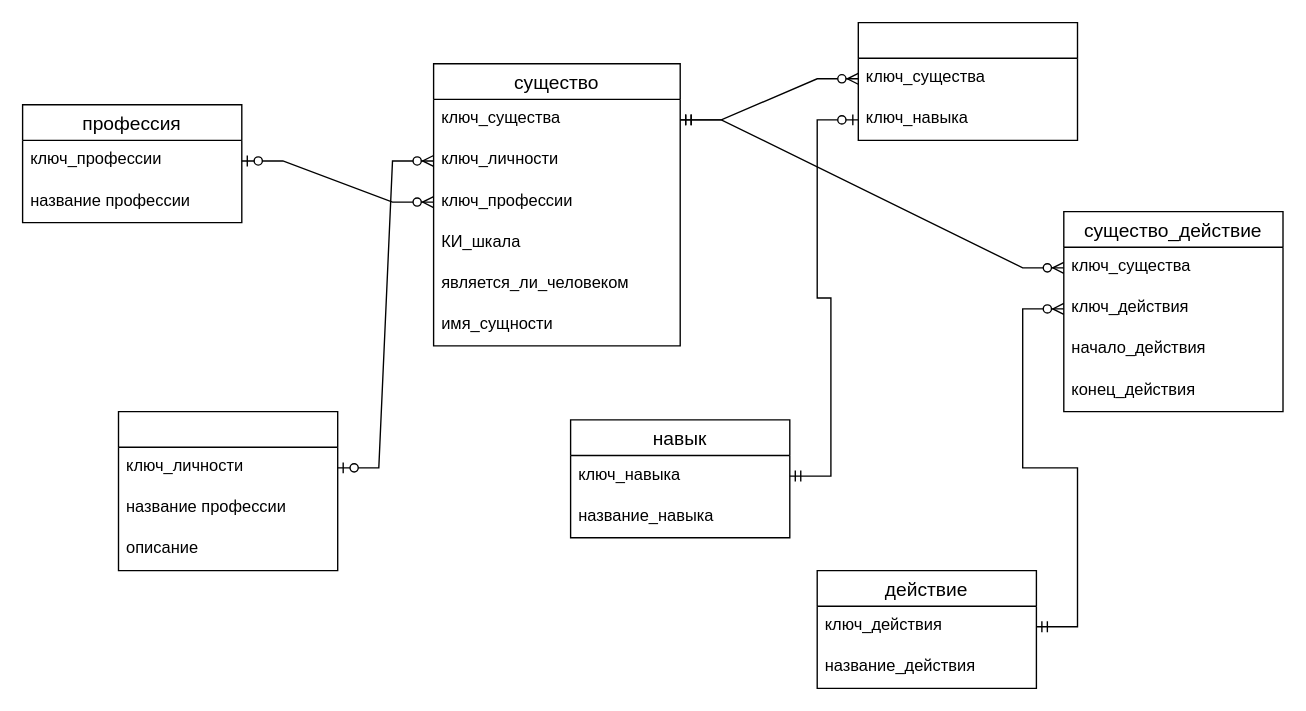
Some shapes in this 1306 by 711 pixel diagram are drawn without their labels. Each missing label, with the box of its shape:
личность: (117, 410, 338, 571)
навык_существо: (857, 21, 1078, 140)
